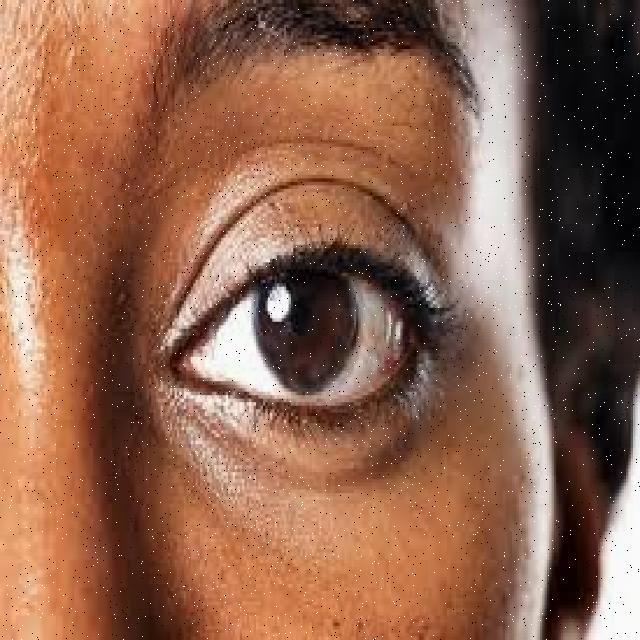Normal: (104, 175, 488, 518)
